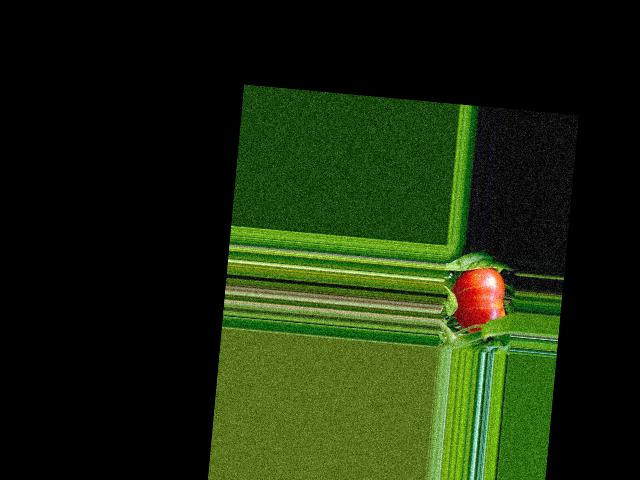tomato: (449, 264, 509, 336)
